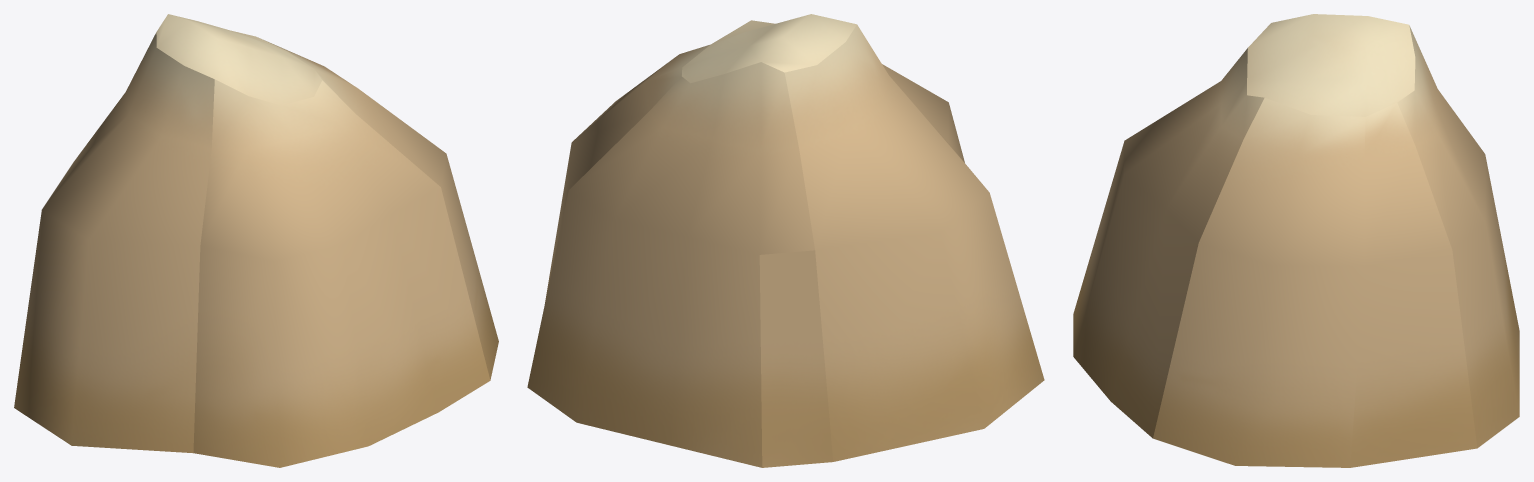
File: sand.fbx
3 renders of one model, left to right at view 1: azimuth 30°, elevation 25°; view 2: azimuth 150°, elevation 25°; view 3: azimuth 270°, elevation 25°, orthographic. The views are drawn at different scales.
Visible parts, largest first — view 1: mesh_sand; view 2: mesh_sand; view 3: mesh_sand.
Part boxes in pixels (left/top/right/bottom): mesh_sand: left=14, top=14, right=498, bottom=467; mesh_sand: left=527, top=14, right=1044, bottom=467; mesh_sand: left=1073, top=14, right=1519, bottom=467.
Size of the model in its own units: 3.65 by 2.81 by 3.3.
